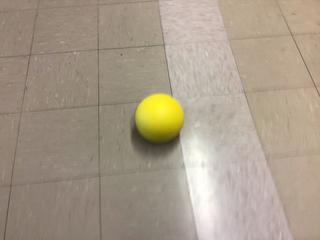power_cell: (133, 91, 187, 145)
